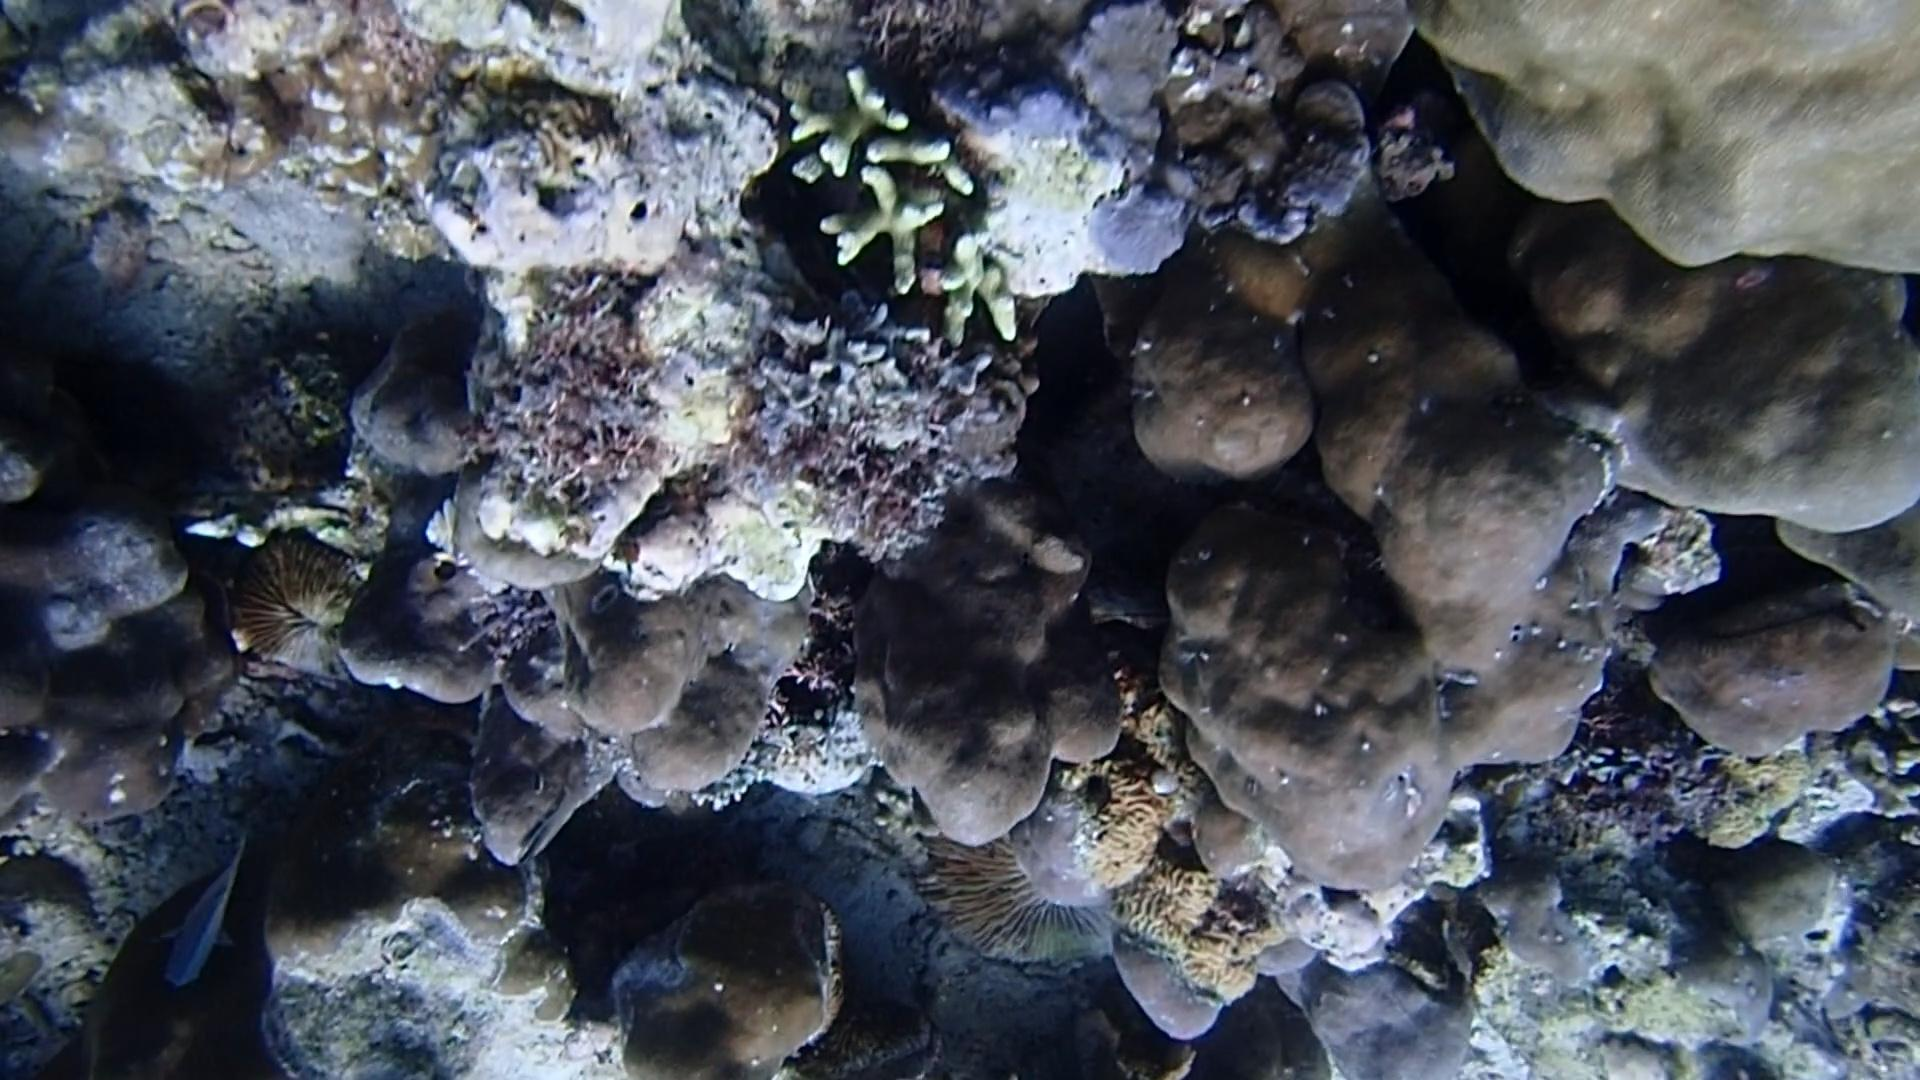Blue Fish Two: (154, 831, 244, 998)
